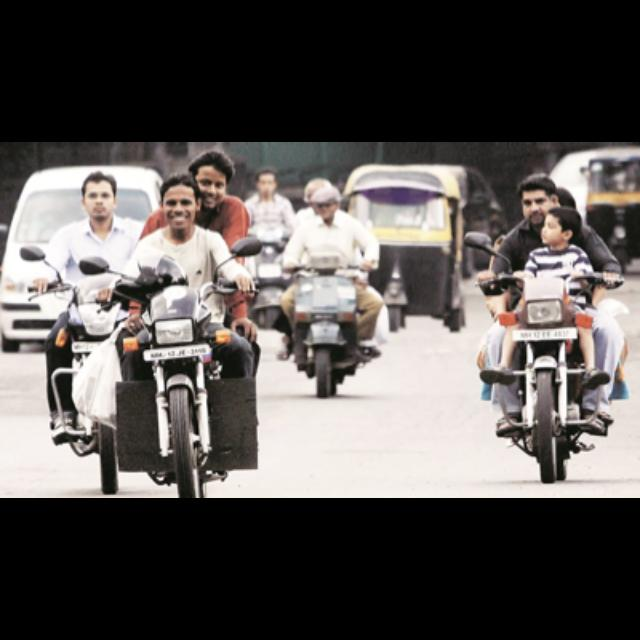Without Helmet: (154, 170, 208, 230), (514, 176, 562, 228)
